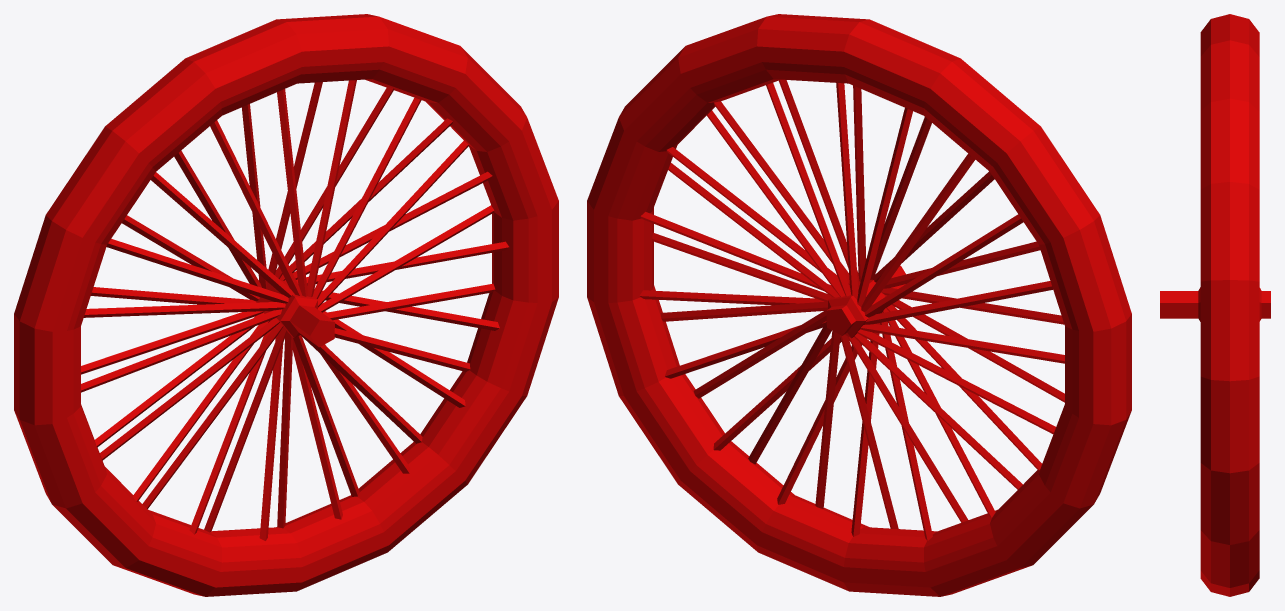
Rendered from wheel.glb.
3 views of the same model, side by side, from view 1: azimuth 30°, elevation 25°; view 2: azimuth 150°, elevation 25°; view 3: azimuth 270°, elevation 25° (orthographic). The views are drawn at different scales.
Parts seen in each view (by area): view 1: wheel; view 2: wheel; view 3: wheel.
Part boxes in pixels (<box>): wheel: <box>14,14,558,596</box>; wheel: <box>587,14,1131,596</box>; wheel: <box>1160,14,1270,596</box>.
Bounding box in the file's own units: 0.681 × 0.6915 × 0.1308.
